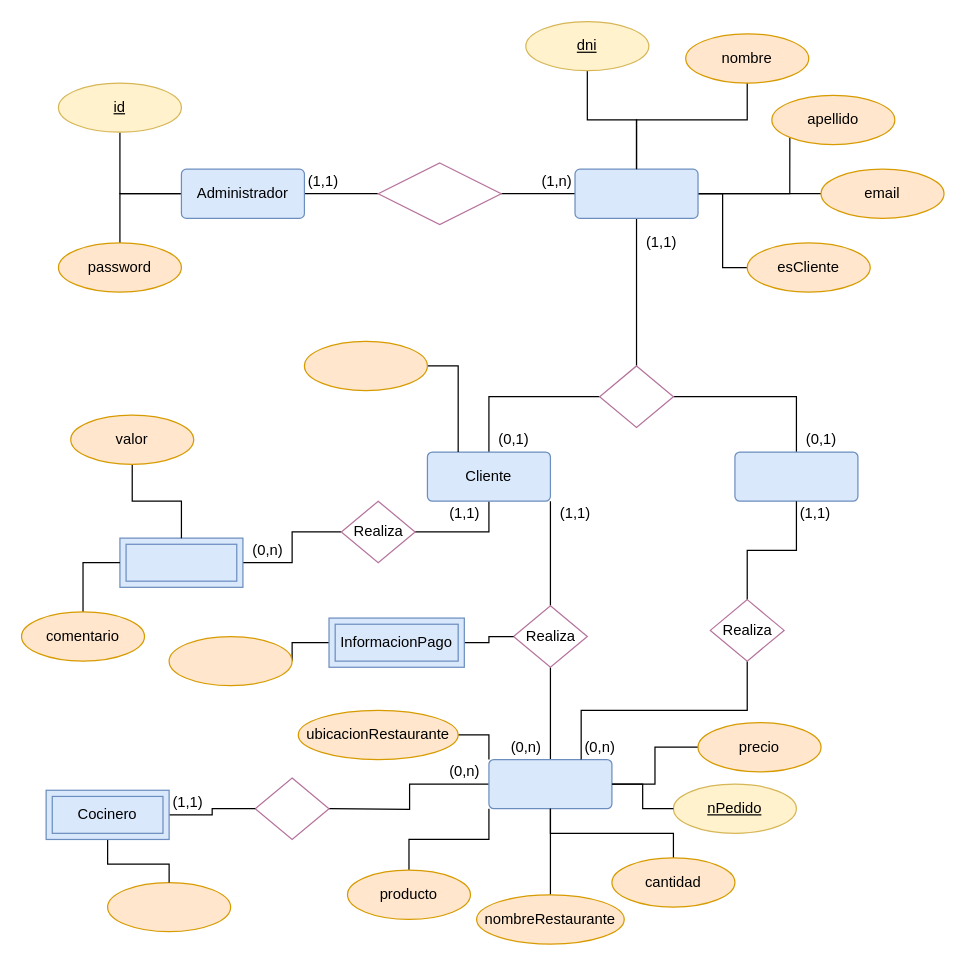
Image size: 966x966. Some labels were removed from this diagram. Each missing label, with the centre of its shape:
Camarero: the point at 796,476
estadoPedido: the point at 168,906
ISA: the point at 635,396
Pedido: the point at 550,783
recibe: the point at 291,808
Se encarga de: the point at 439,193
tarjetaDeCredito: the point at 230,660
ubicación: the point at 365,365
Usuario: the point at 636,193
Valoracion: the point at 181,562
